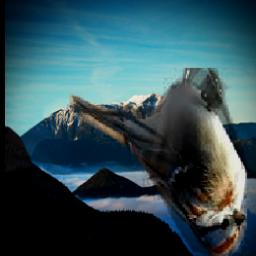Sparrow: (68, 68, 248, 256)
